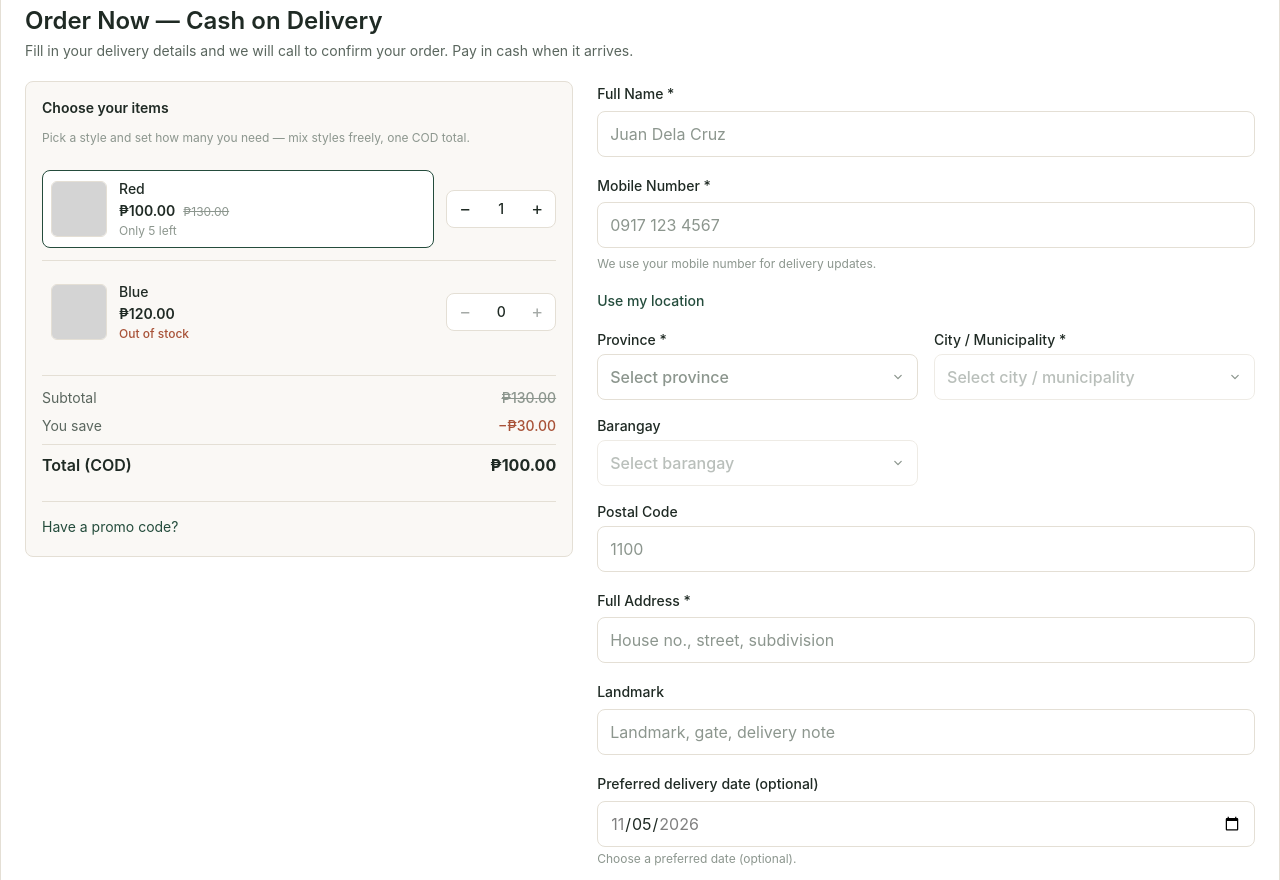
Test case: PdpQuickCodOrder › rejects a malformed Philippine mobile number
The image size is (1280, 880).
Type "Juan" into the field labelled "Full Name *".
click(926, 134); type("Juan")  # box top-left (597, 111), bottom-right (1255, 157)
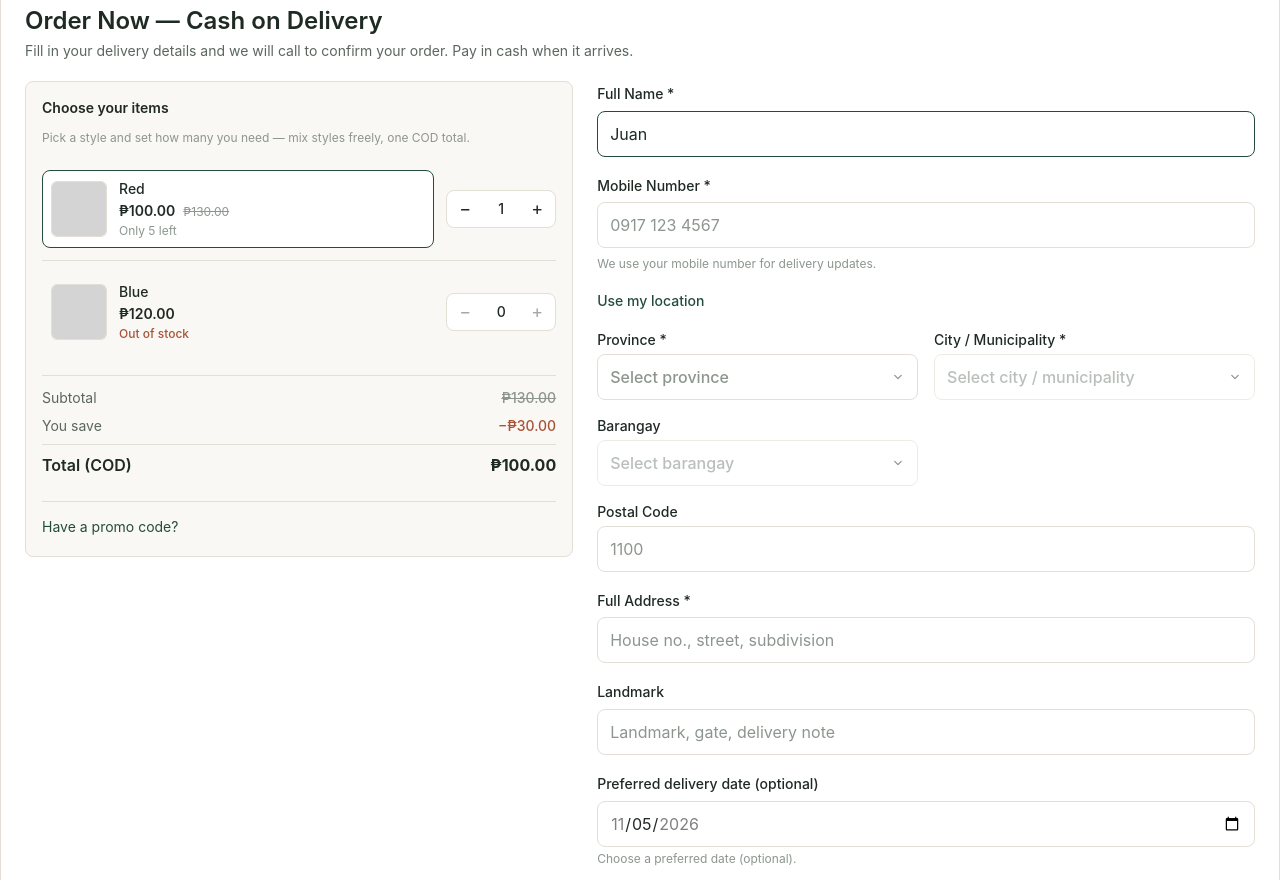
Type "12345" into the field labelled "Mobile Number *".
click(926, 225); type("12345")  # box top-left (597, 202), bottom-right (1255, 248)
(page scrolled)
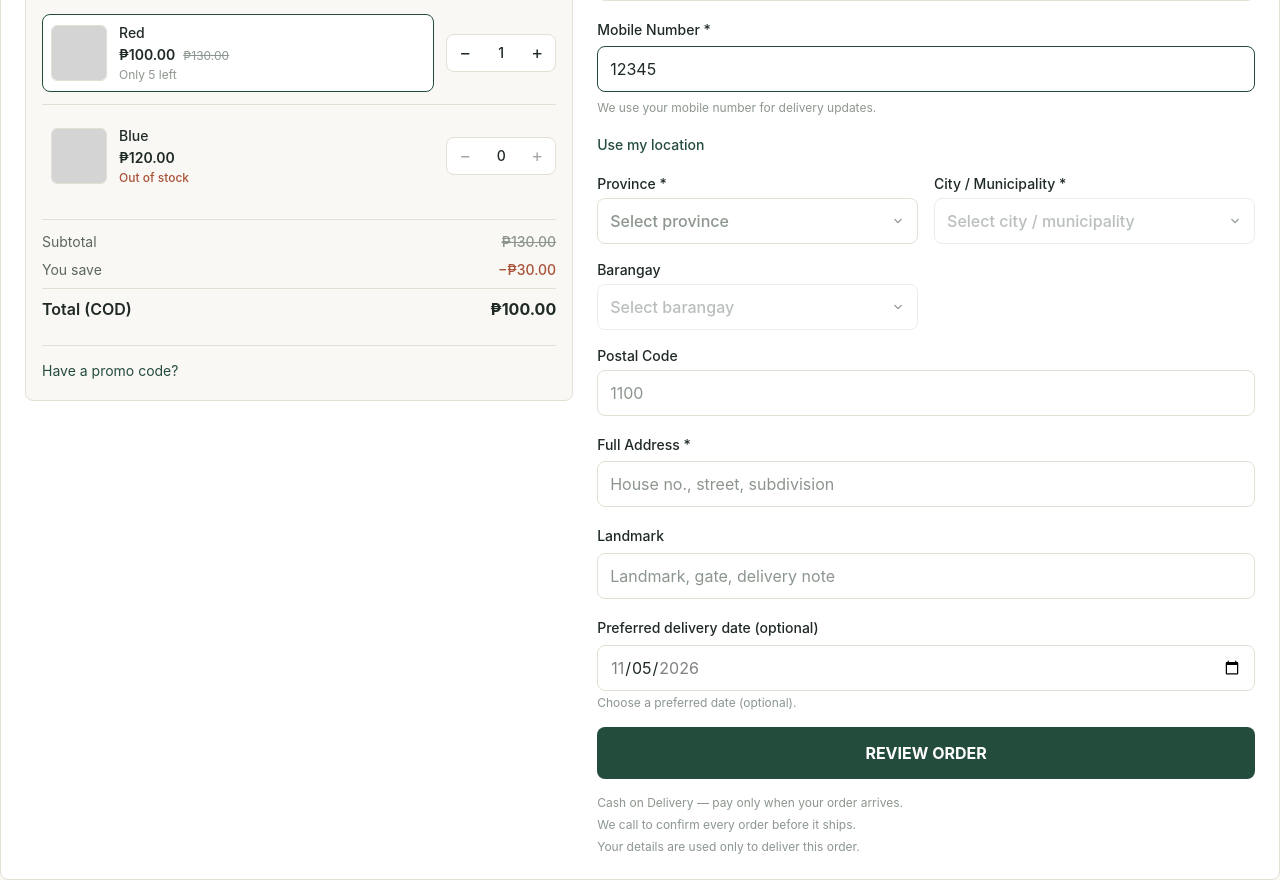
Click the button with test id "quick-cod-submit".
click(926, 753)  # box top-left (597, 727), bottom-right (1255, 779)
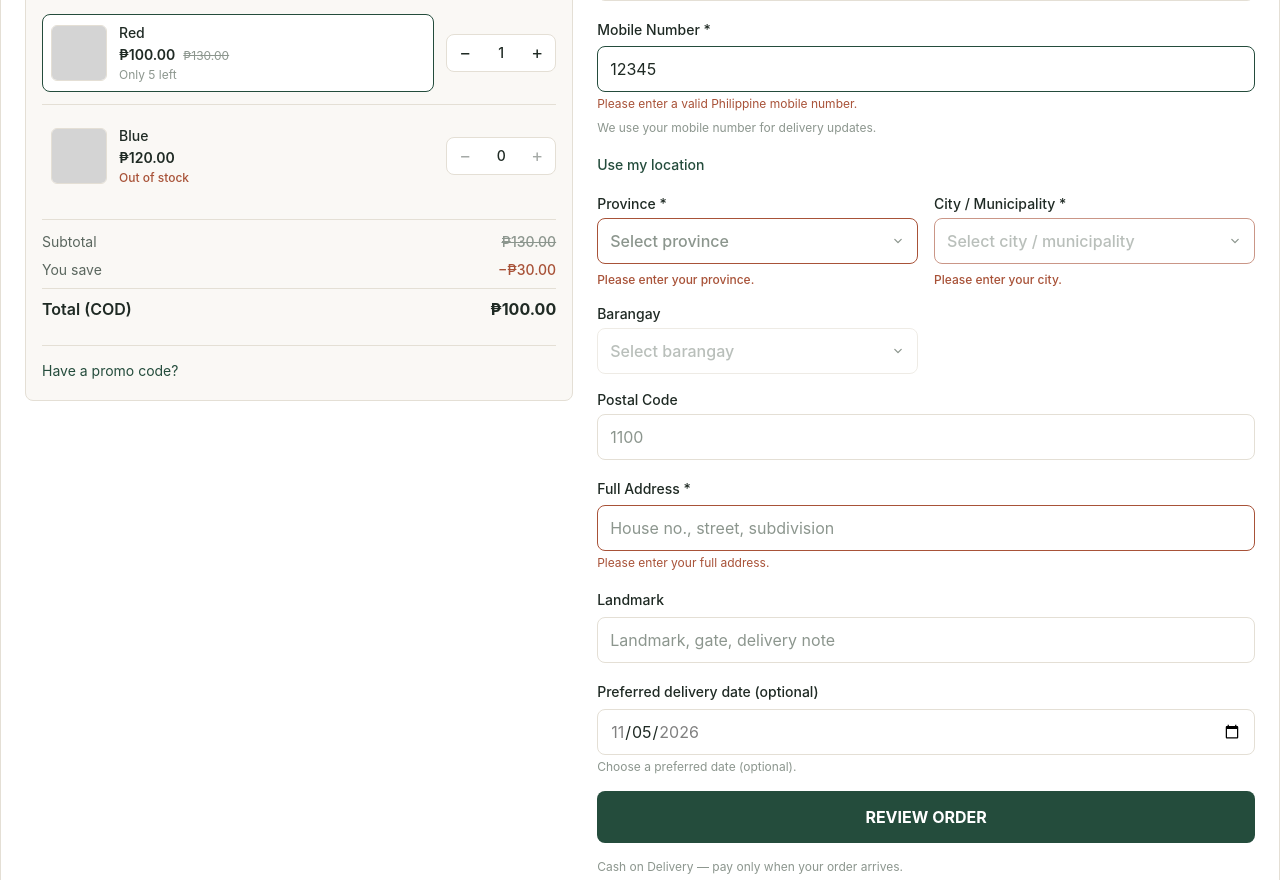
Result: the text "Please enter a valid Philippine mobile number." is shown at top-left (597, 96), bottom-right (857, 111)
